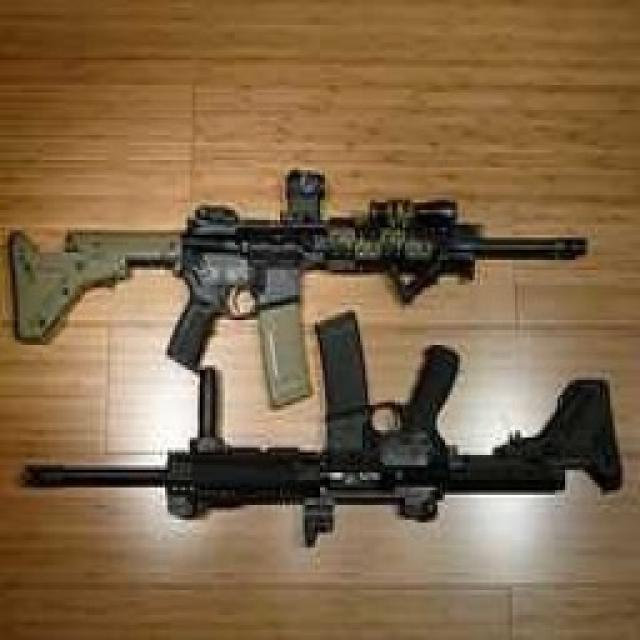long weapon: (18, 365, 602, 558), (32, 168, 584, 336)
